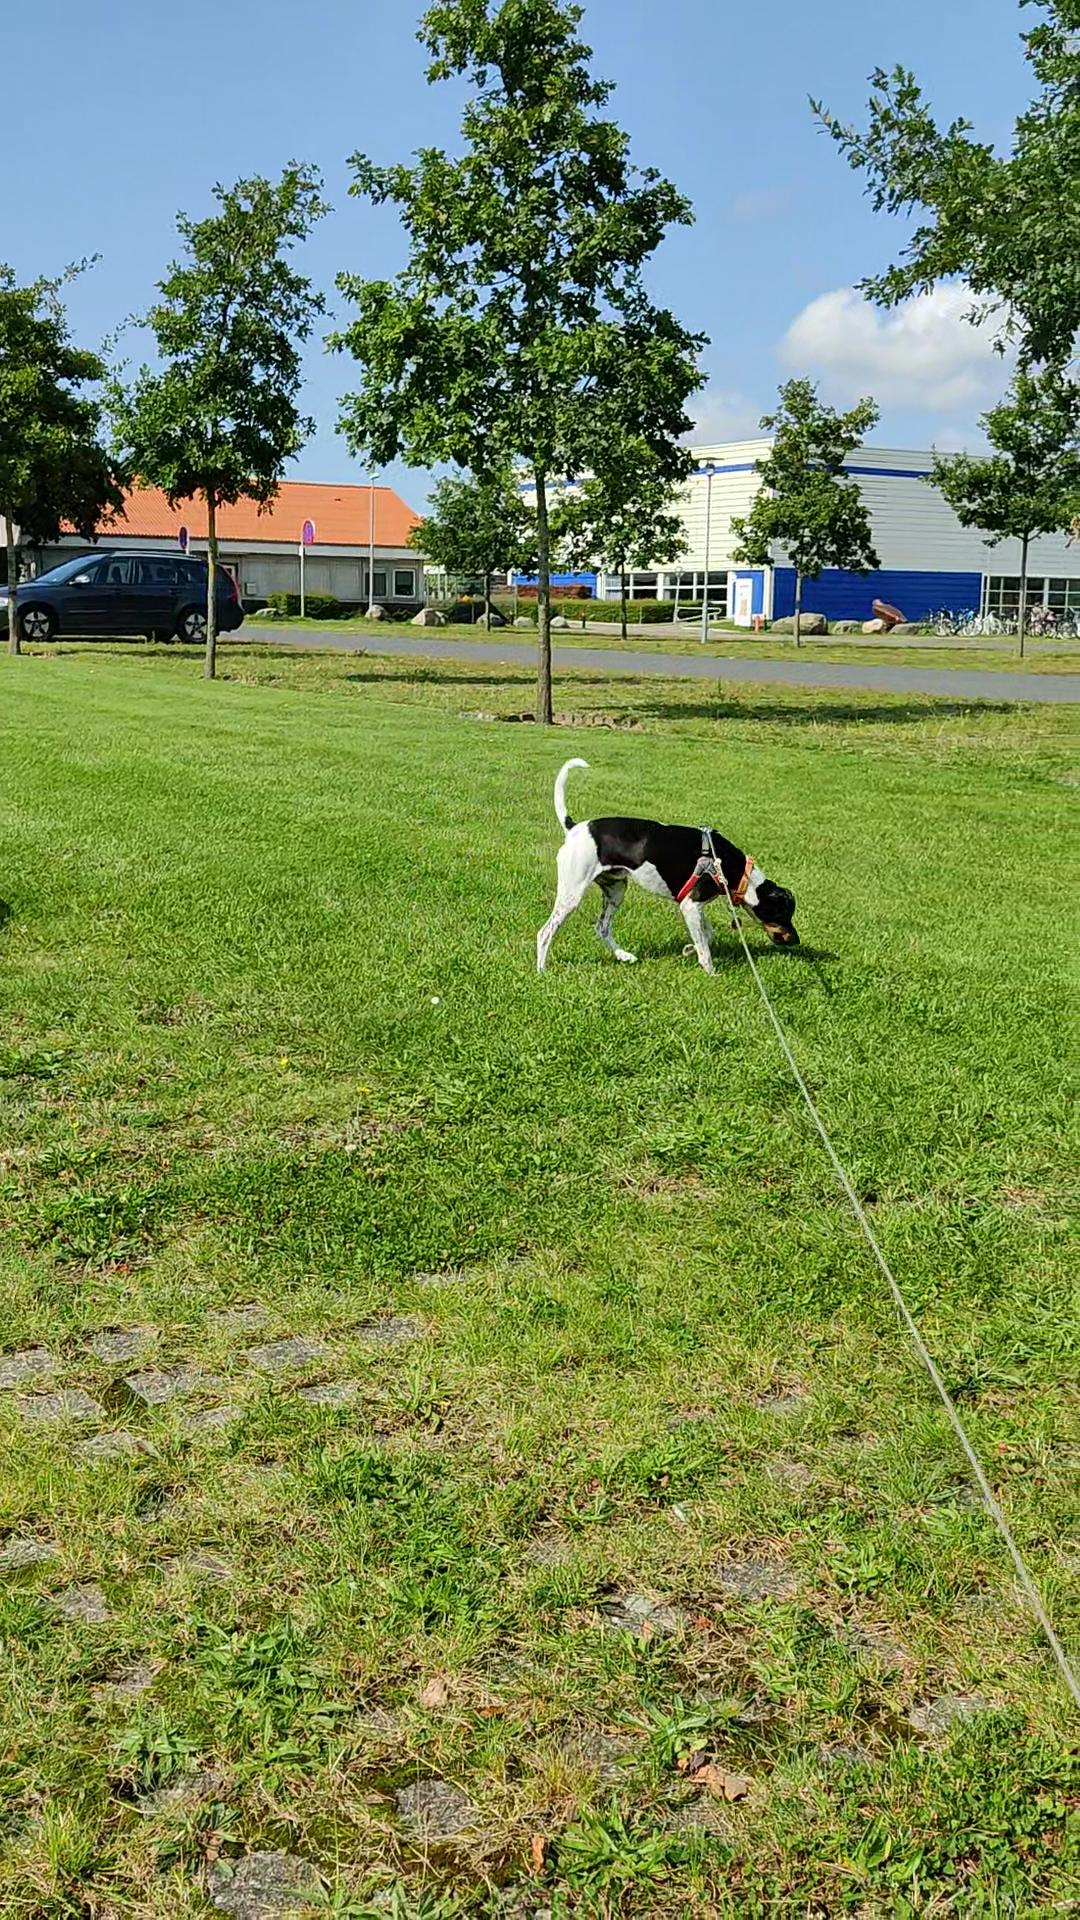Dog: (534, 756, 806, 976)
